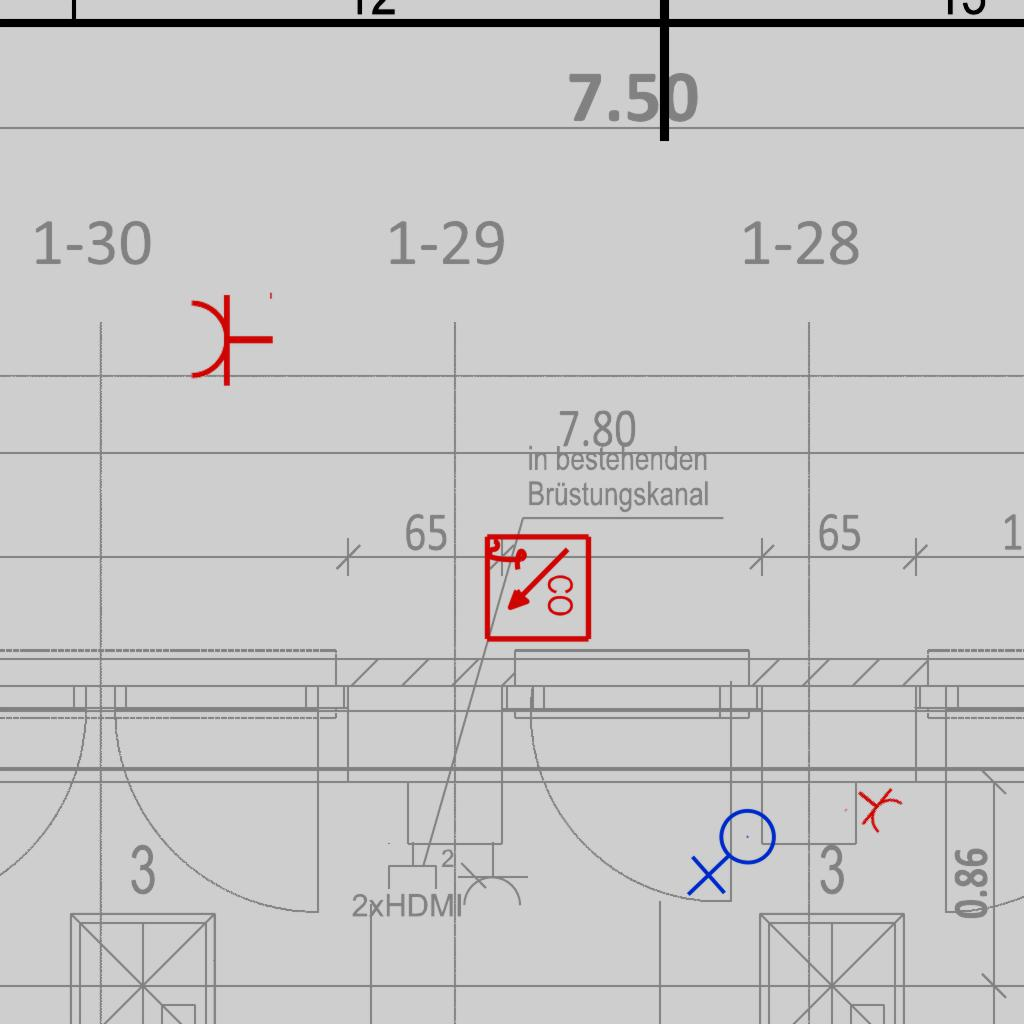Elektroanschluss_allgemein_230V_Geraeteanschlussdose_230V: (686, 807, 785, 901)
ROA_Rauchmelder_optisch_mit_Signalgeber_(Sockelsirene): (480, 532, 593, 645)
Schukosteckdose_einfach: (188, 288, 275, 388), (842, 773, 907, 839)
